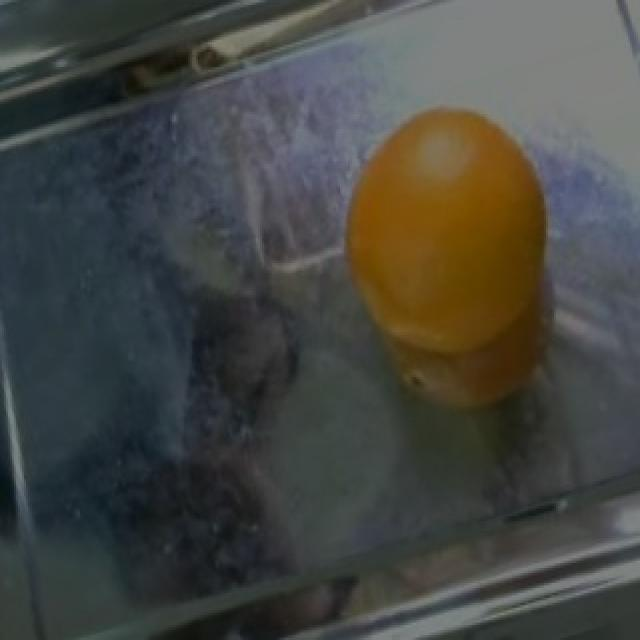Fruit: (320, 82, 570, 422)
